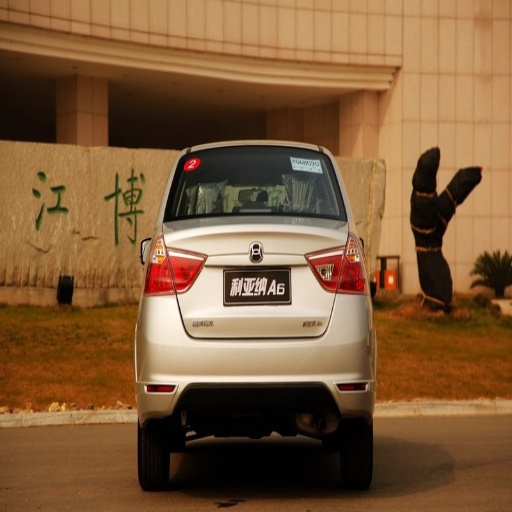back_bumper: (132, 293, 374, 419)
tailgate: (163, 220, 347, 334)
trunk: (173, 256, 257, 337)
